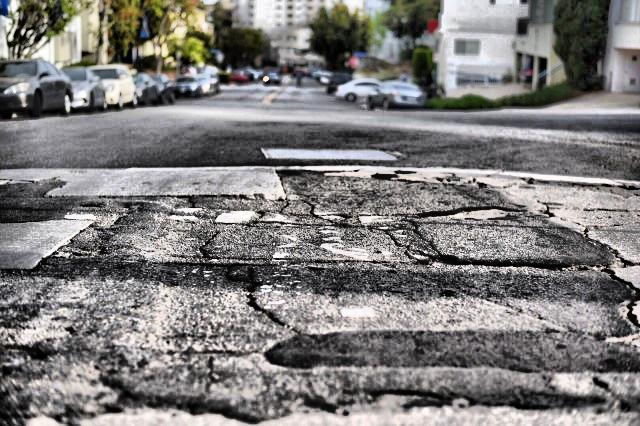pothole: (416, 205, 512, 223)
